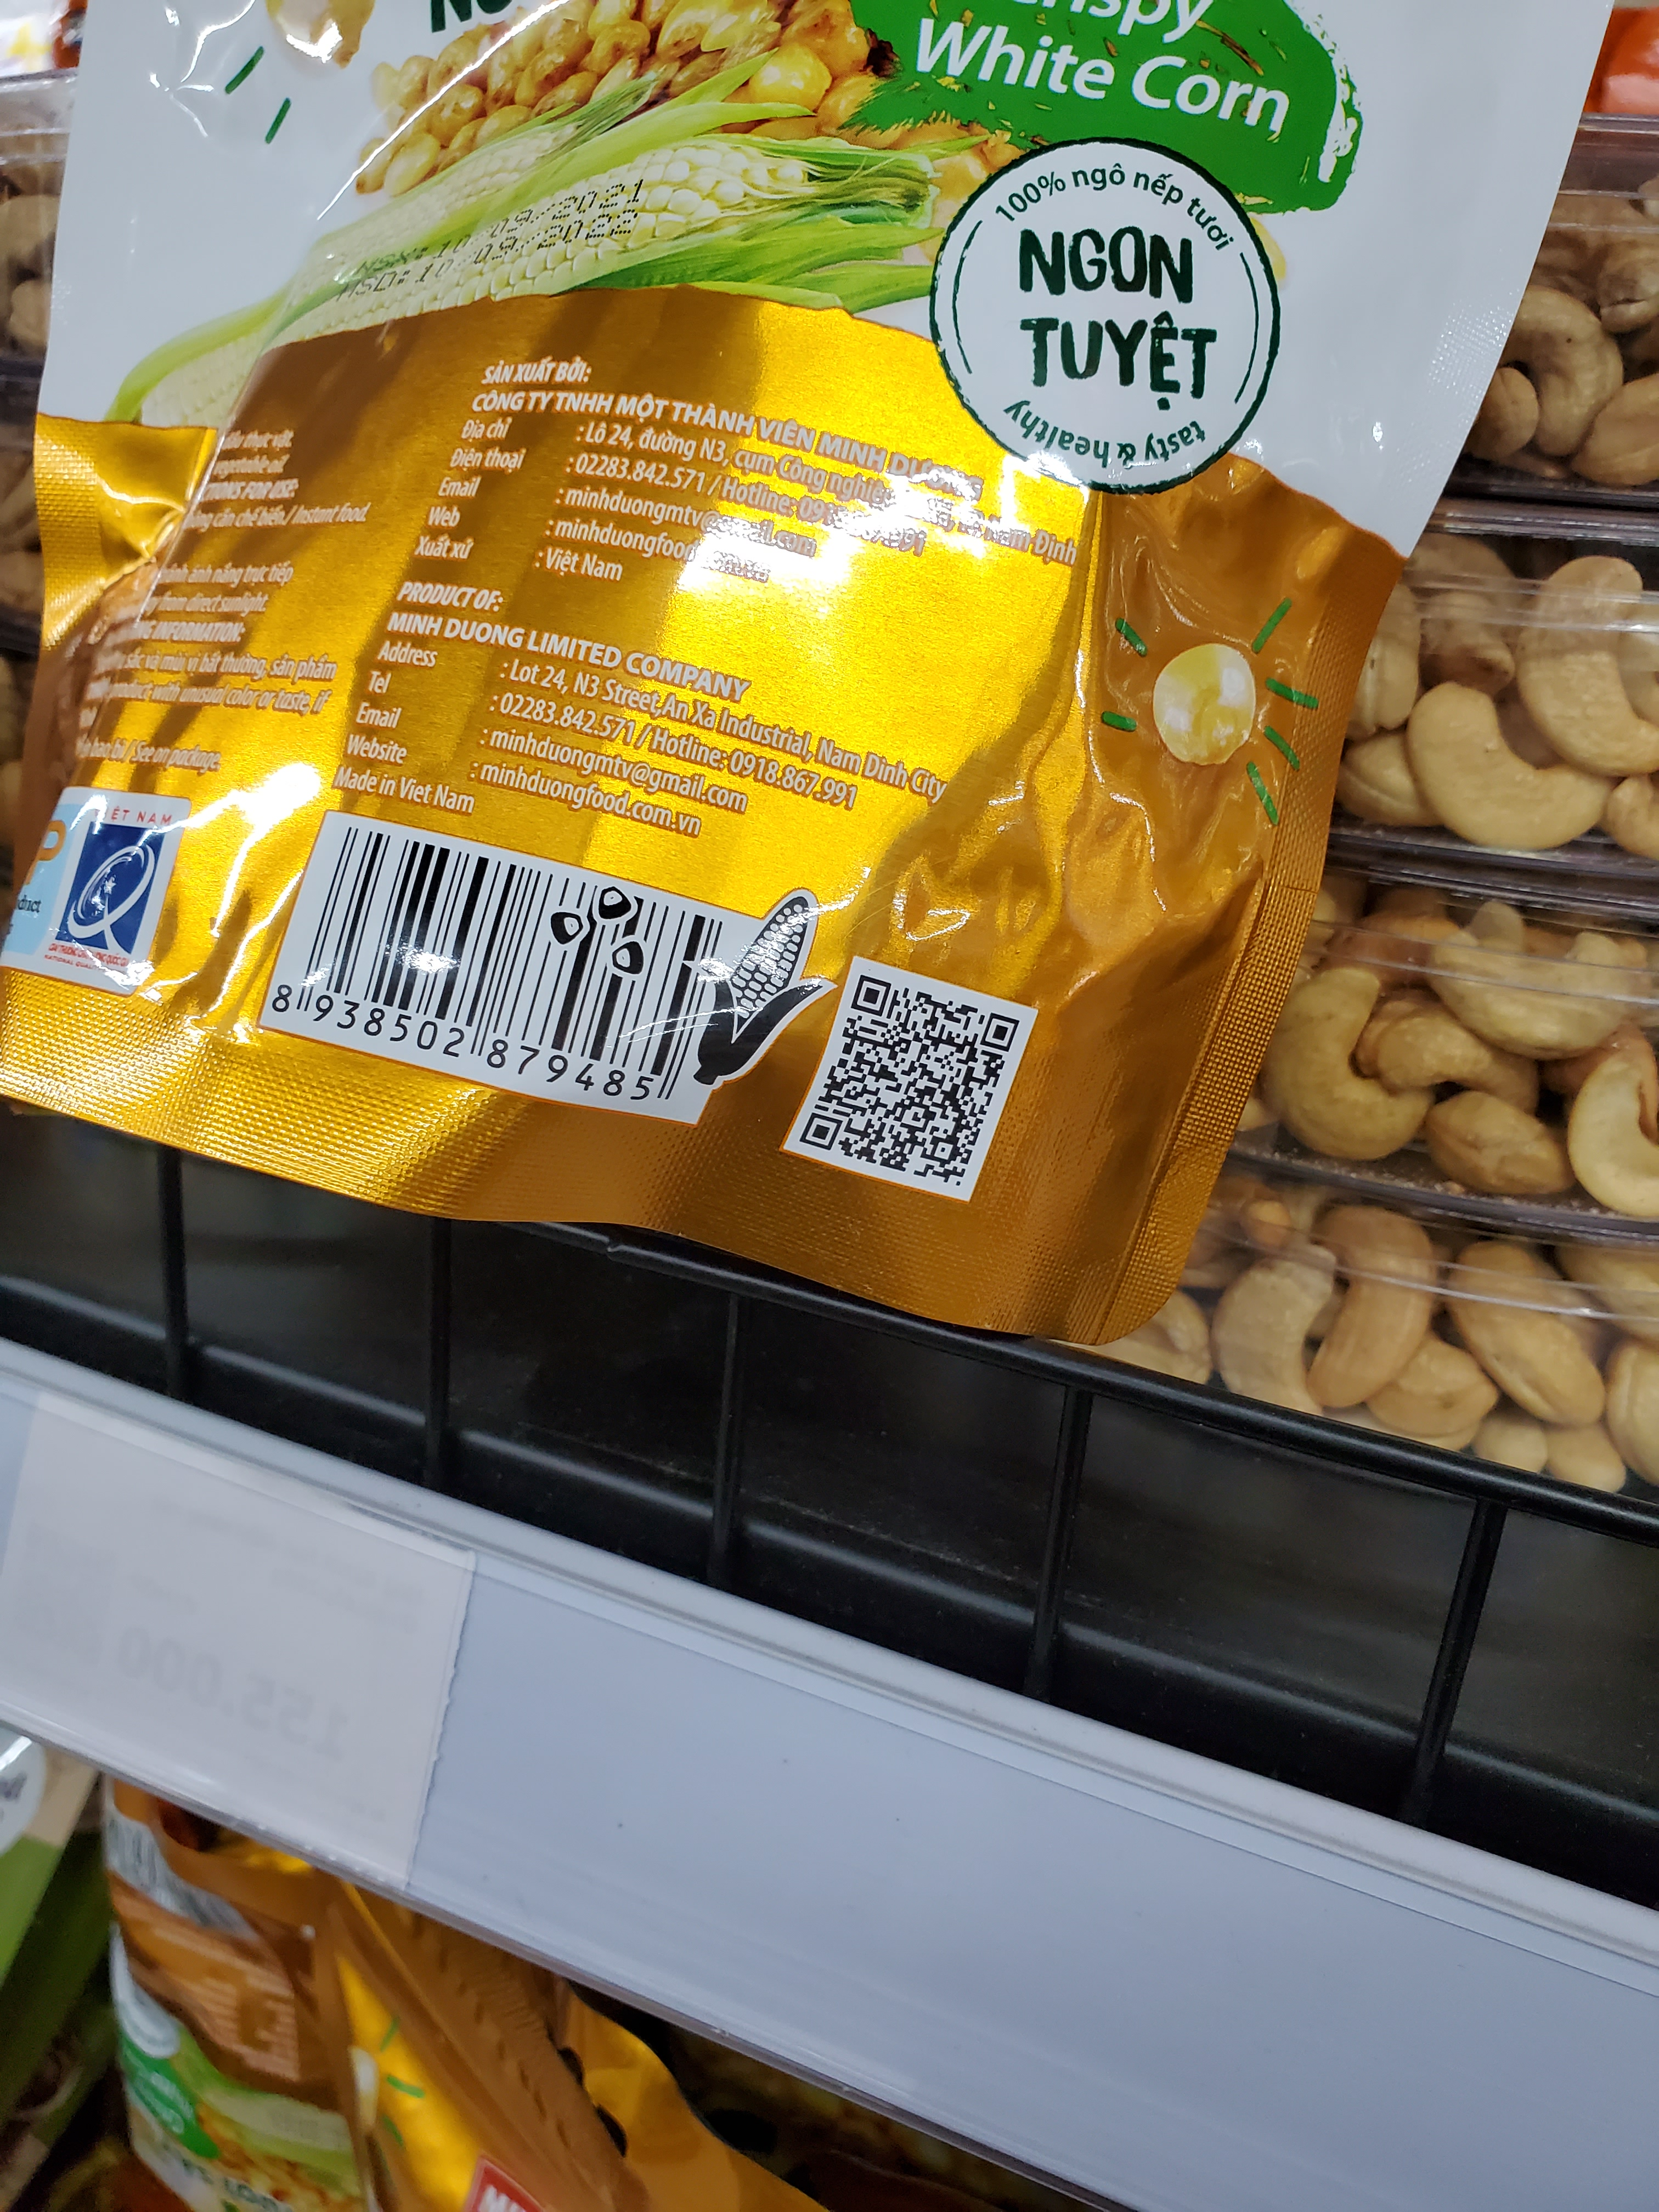barcode: (247, 813, 767, 1129)
qr code: (784, 937, 1063, 1242)
